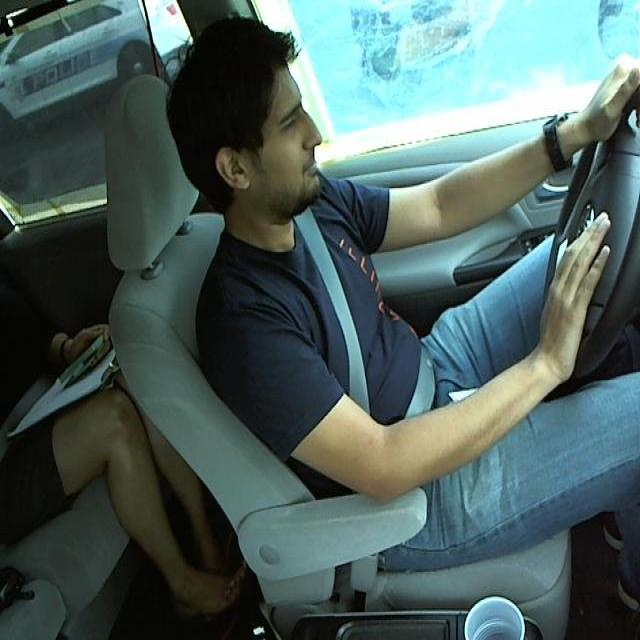without_using_phone: (155, 29, 344, 254)
